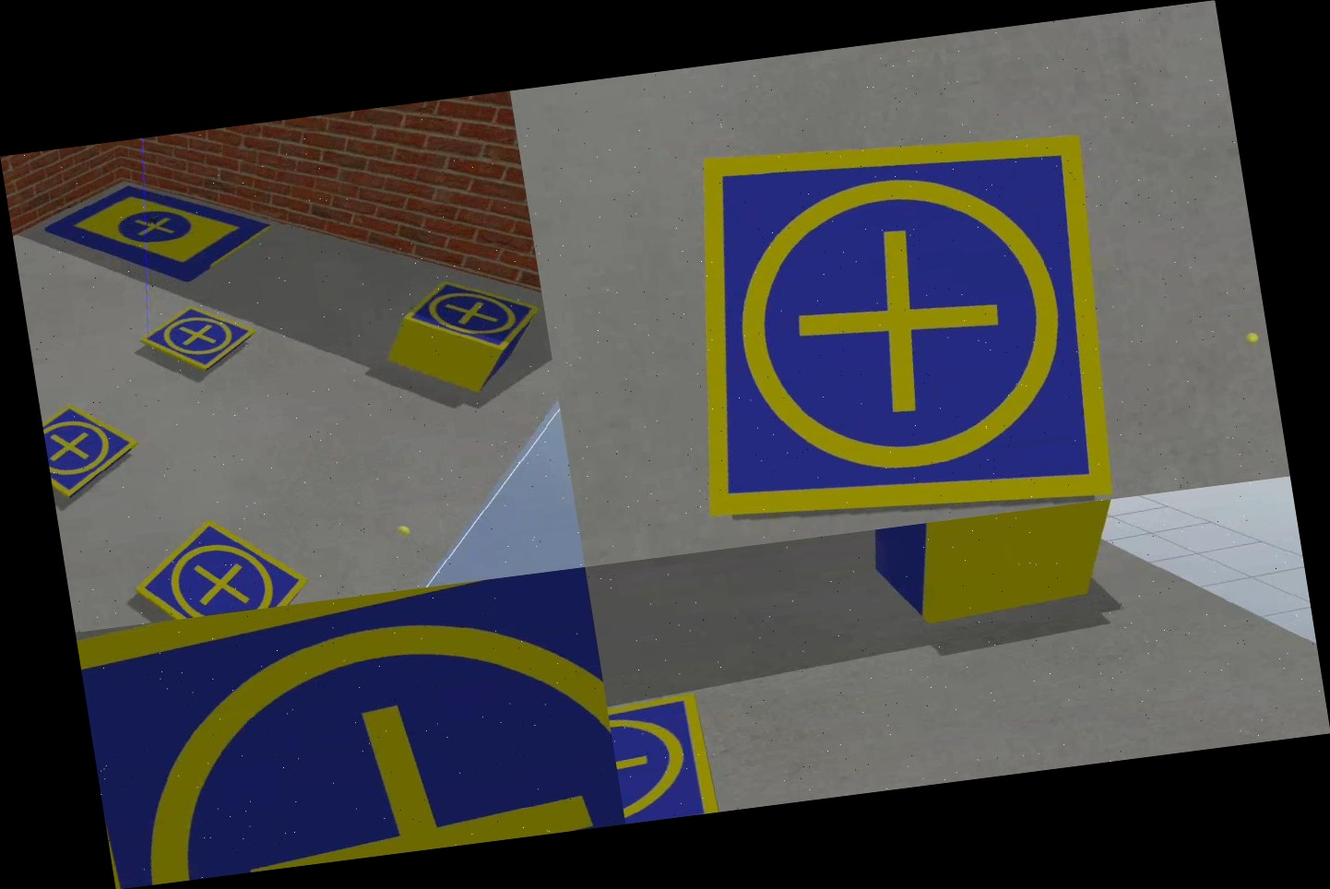large_base: (39, 167, 280, 302)
small_base: (656, 102, 1142, 549), (76, 567, 625, 889), (124, 509, 314, 624), (607, 693, 724, 824), (398, 269, 549, 366), (40, 396, 148, 500), (135, 300, 261, 380)
